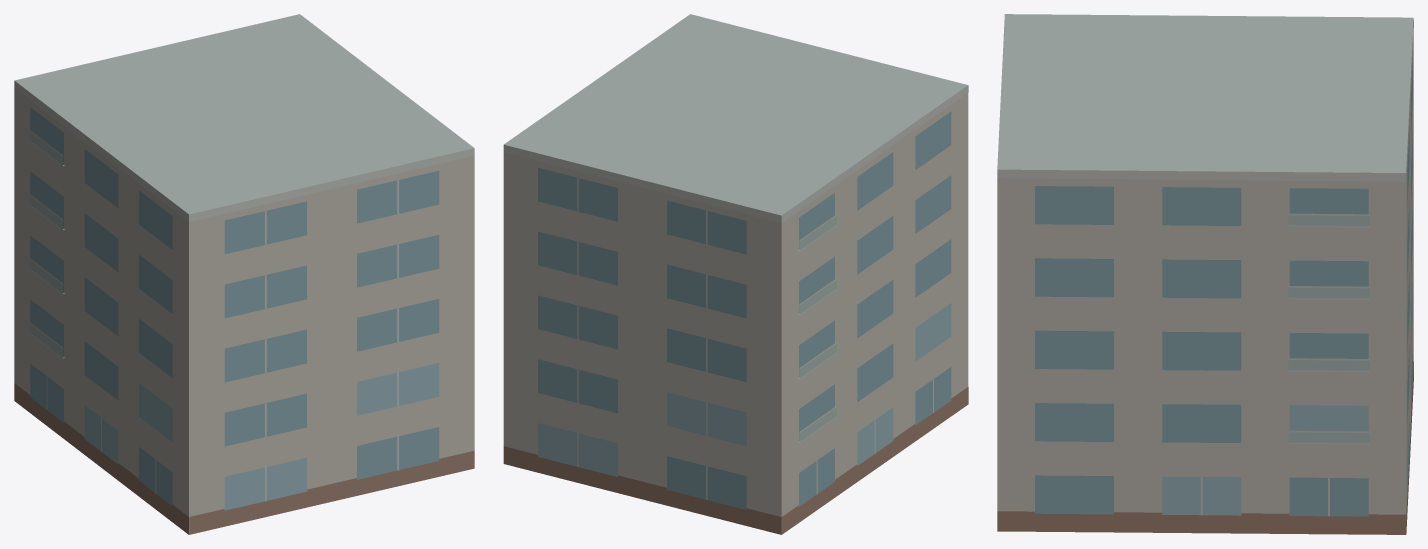
Rendered from survey-upis-32939993.glb.
3 renders of one model, left to right at view 1: azimuth 30°, elevation 25°; view 2: azimuth 150°, elevation 25°; view 3: azimuth 270°, elevation 25°, orthographic. The views are drawn at different scales.
Parts seen in each view (by area): view 1: survey-upis-32939993.tmp; view 2: survey-upis-32939993.tmp; view 3: survey-upis-32939993.tmp.
Part boxes in pixels (box(x1,y1,x2,y2)): survey-upis-32939993.tmp: box(14, 14, 474, 534); survey-upis-32939993.tmp: box(503, 14, 968, 534); survey-upis-32939993.tmp: box(997, 14, 1413, 534).
Size of the model in its own units: 9.83 by 10.4 by 10.86.
